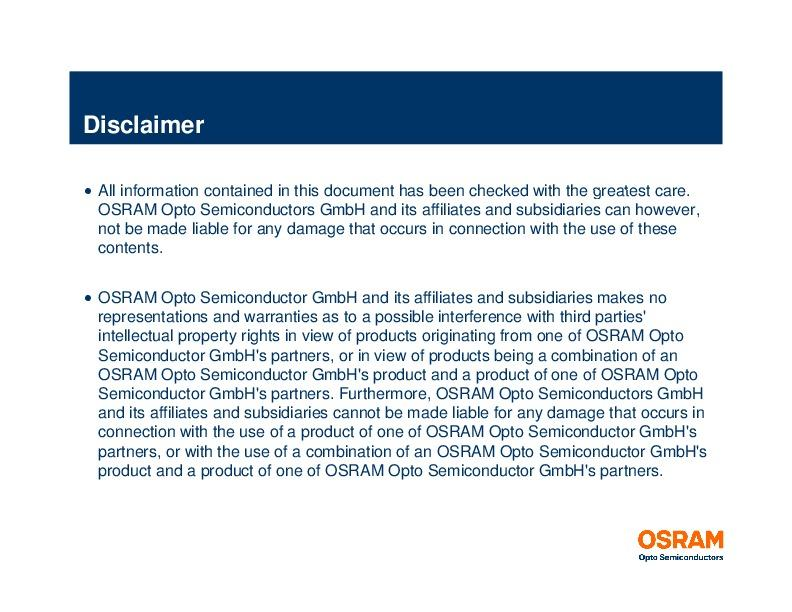paragraph: (74, 168, 753, 493)
title: (76, 106, 227, 144)
